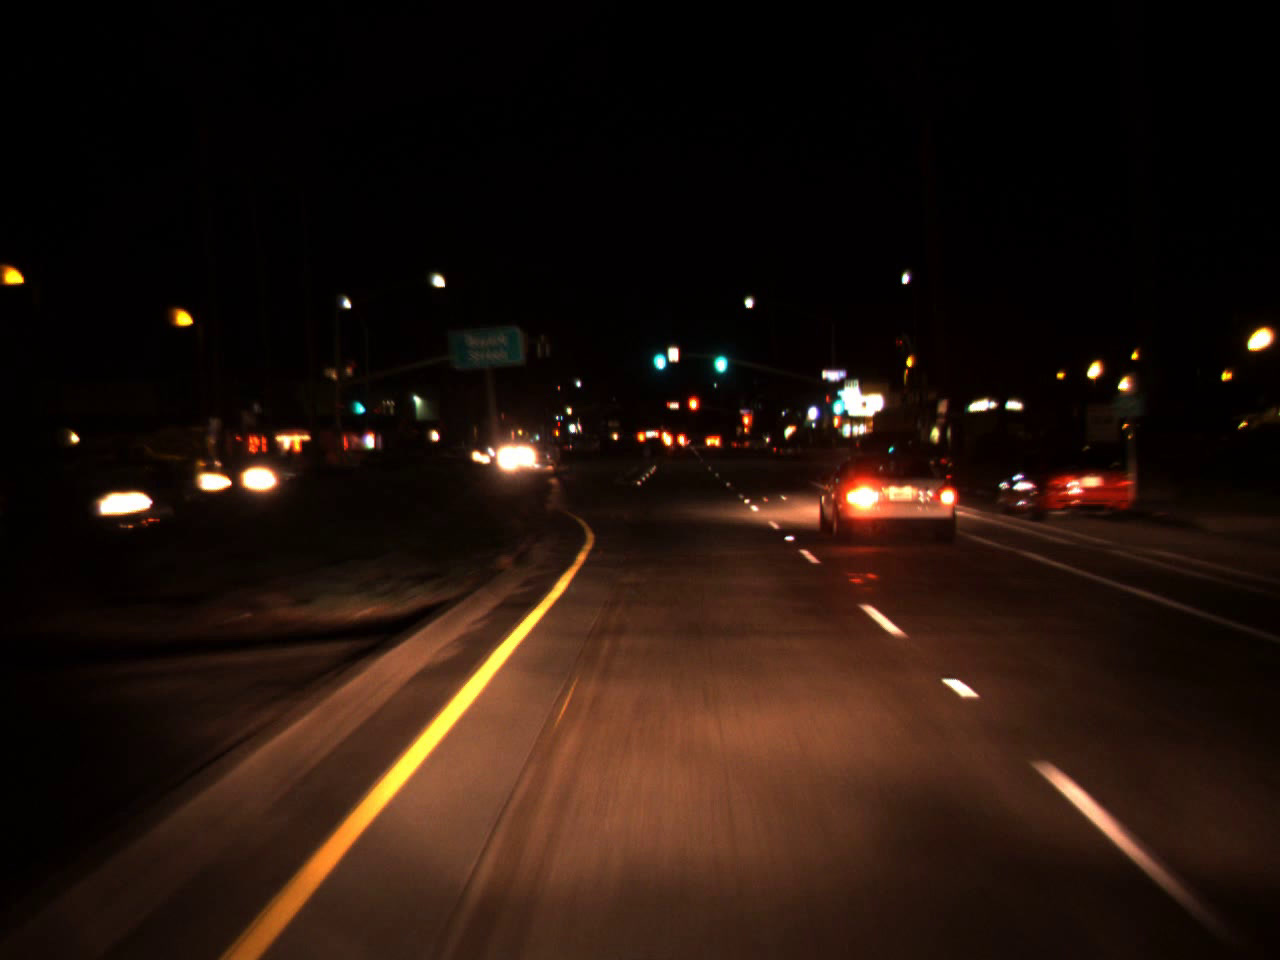go: (710, 334, 729, 379), (648, 335, 667, 374), (829, 387, 845, 417), (353, 390, 363, 417)
stop: (740, 411, 753, 443), (688, 398, 697, 416)
